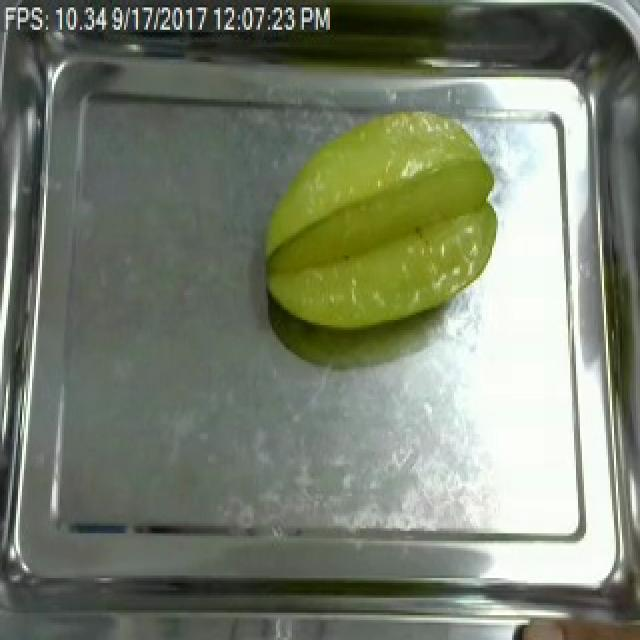fruit: (252, 104, 506, 340)
